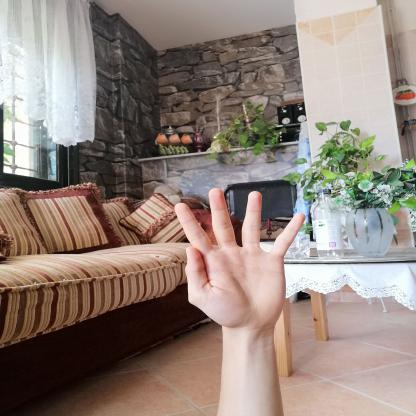SHEEN: (162, 179, 319, 339)
